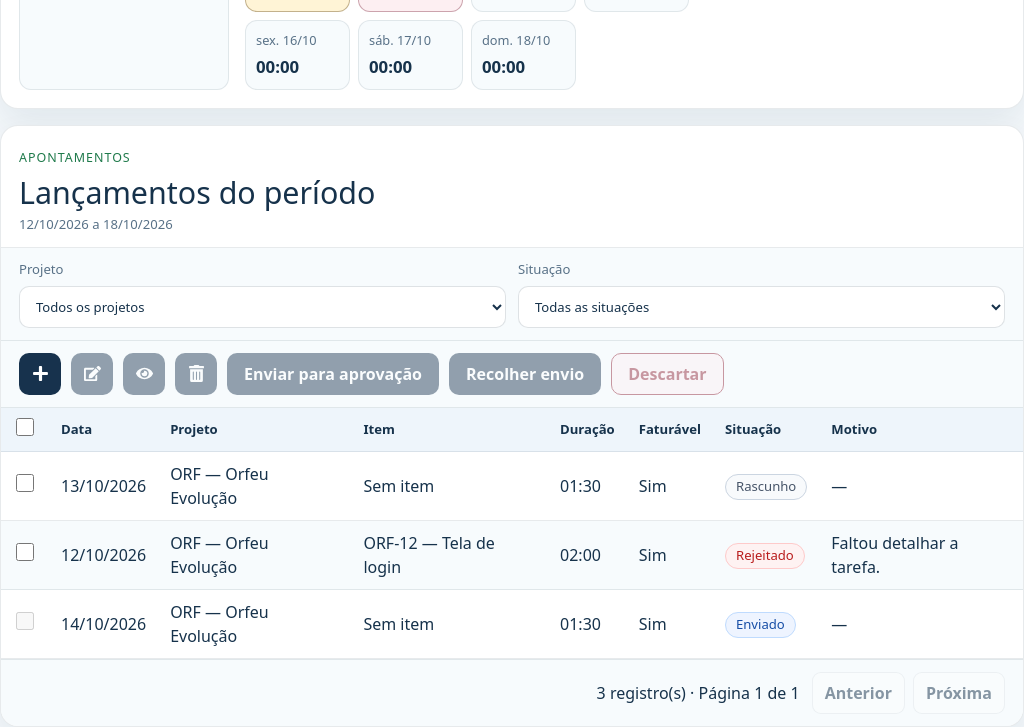
it: Meus apontamentos › mantém o item arquivado do apontamento e avisa quando os itens não carregam
This screenshot has width=1024, height=727.
(page scrolled)
expect the heading "Lançamentos do período" is shown: met, box [19,174,375,210]
Click the 3rd row: (512, 555) [1,521,1023,590]
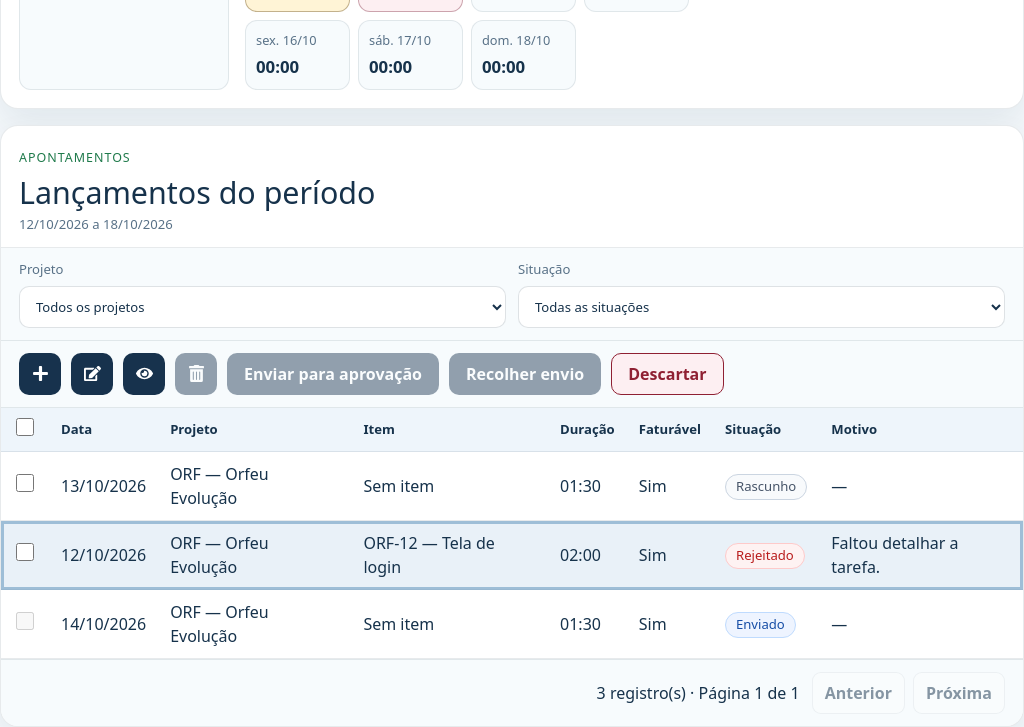
Click the button named "Alterar apontamento": (92, 374) [71,352,113,394]
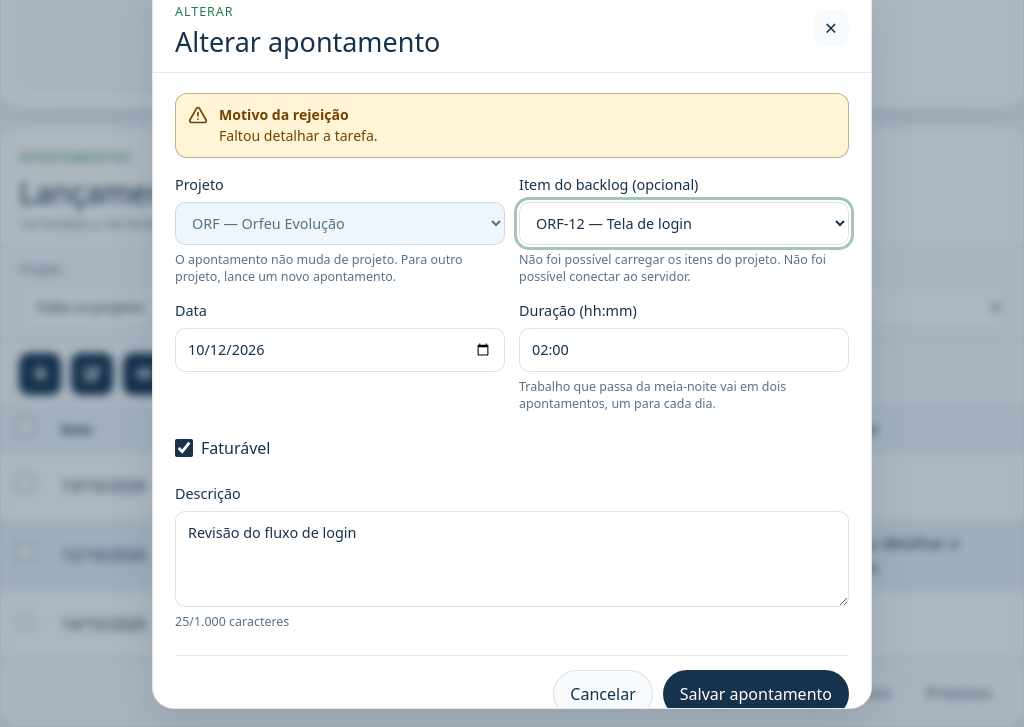
expect the 2nd message shows "Não foi possível carregar os itens do projeto.": met, box [519,251,784,268]
expect the dropdown labelled "Item do backlog" shows "ORF-12 — Tela de login": met, box [519,202,849,245]
